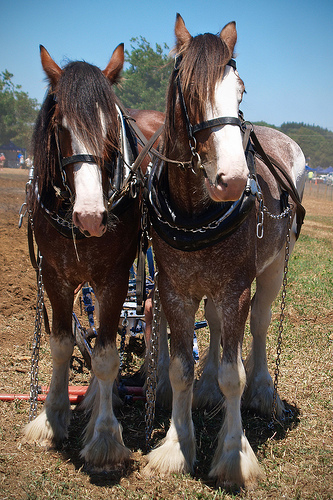horse: (141, 21, 316, 495), (24, 45, 164, 483)
